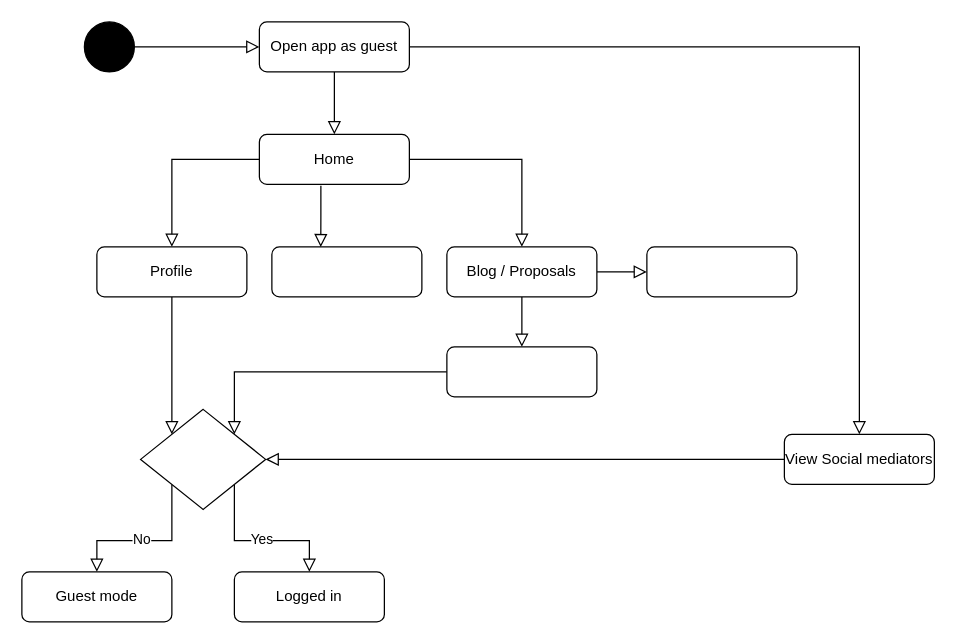
This 956x644 diagram has some shape labels left out. The shapes that lost their labels are listed below. From the top down, each one's centre as x and y in pixels, then its label:
At (346,271): "About".
At (721,271): "View proposals and comments".
At (521,371): "Post a proposal".
At (202,458): "Login".
